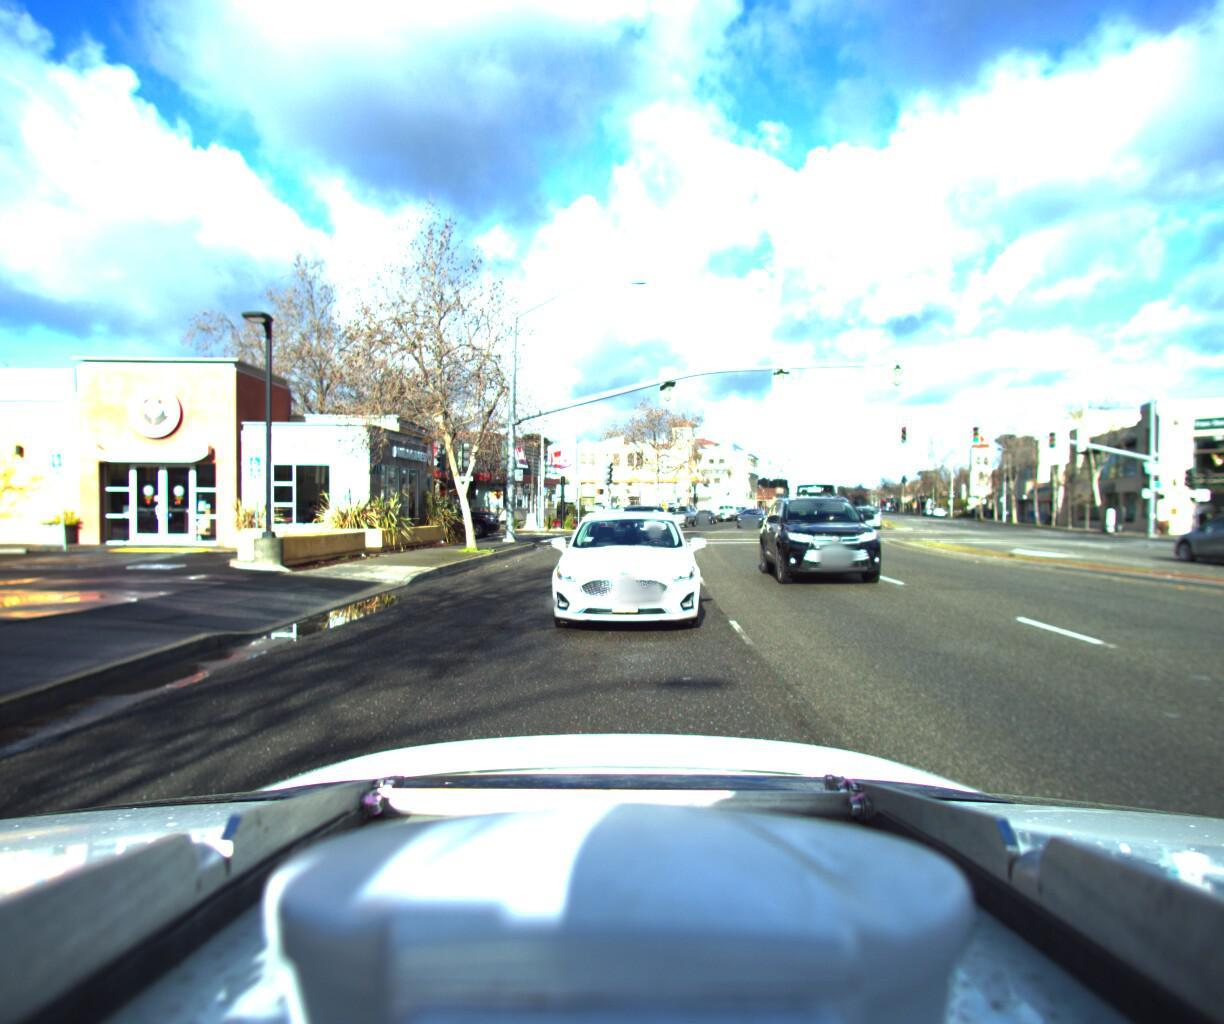car: (548, 492, 706, 636), (757, 481, 918, 594), (381, 492, 502, 532), (1147, 502, 1224, 562), (614, 494, 678, 551), (661, 495, 698, 521), (851, 497, 881, 522), (736, 497, 768, 521)
truck: (781, 439, 849, 535)
